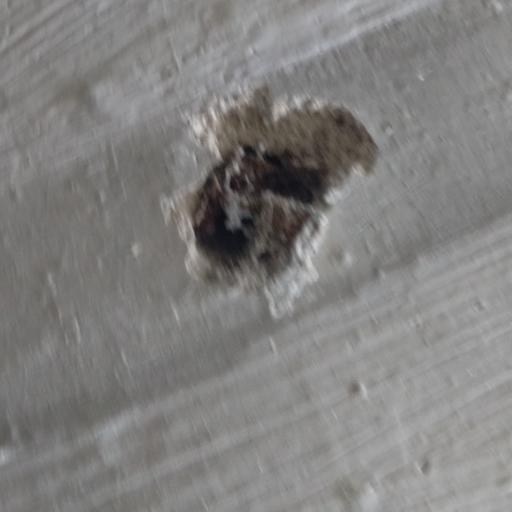spalling: (154, 46, 411, 342)
